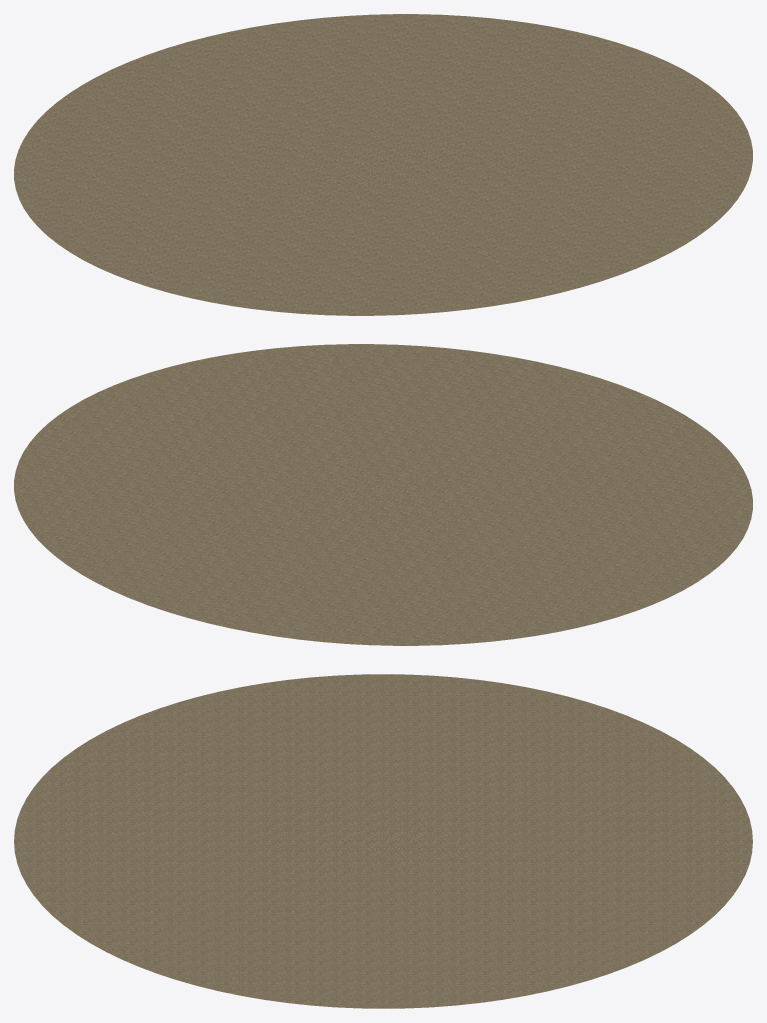
The model's file is turningCourt.glb.
The picture shows the model from 3 angles, top to bottom: view 1: azimuth 30°, elevation 25°; view 2: azimuth 150°, elevation 25°; view 3: azimuth 270°, elevation 25°; orthographic projection. The views are drawn at different scales.
Parts seen in each view (by area): view 1: Aire de retournement.001; view 2: Aire de retournement.001; view 3: Aire de retournement.001.
Boxes of the visible parts, bbox=[...] form: Aire de retournement.001: bbox=[14, 14, 752, 315]; Aire de retournement.001: bbox=[14, 344, 752, 645]; Aire de retournement.001: bbox=[14, 674, 752, 1008].
Bounding box in the file's own units: 21 × 0 × 19.6.
Materials: 1 (1 with a texture image).
